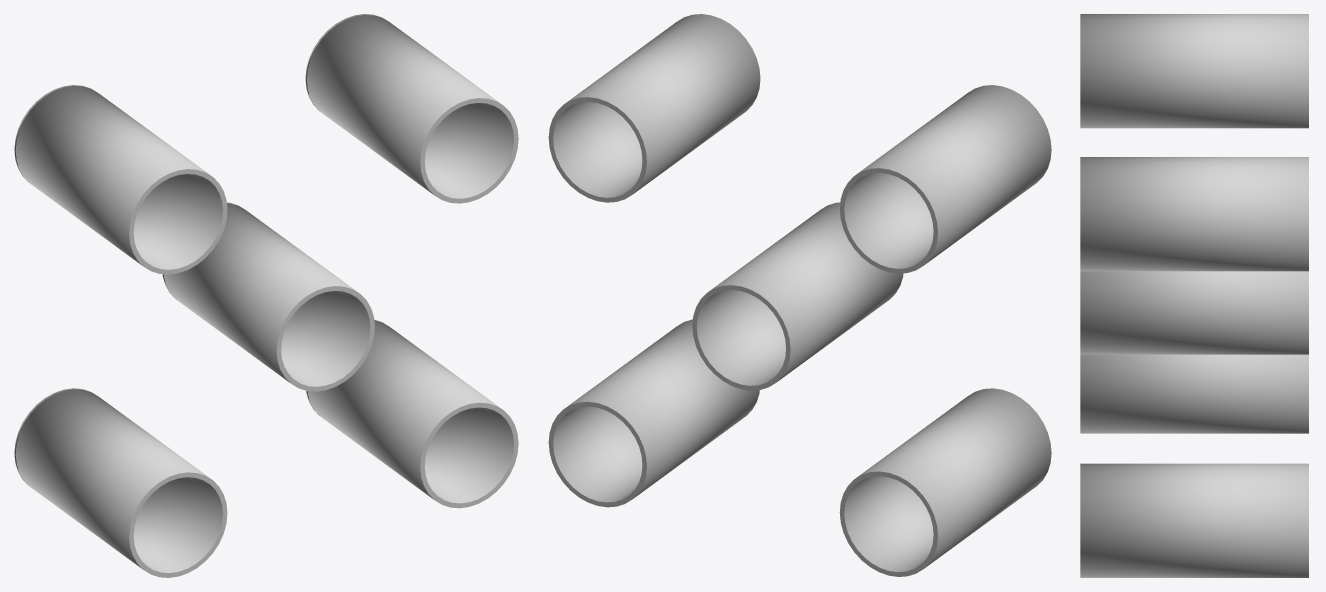
The model's file is start_check.dae.
3 views of the same model, side by side, from view 1: azimuth 30°, elevation 25°; view 2: azimuth 150°, elevation 25°; view 3: azimuth 270°, elevation 25° (orthographic).
Visible parts, largest first — view 1: Cylinder_001, Cylinder_003, Cylinder_002, Cylinder, Cylinder_004; view 2: Cylinder_002, Cylinder_001, Cylinder_003, Cylinder, Cylinder_004; view 3: Cylinder_001, Cylinder_002, Cylinder_004, Cylinder, Cylinder_003.
Part boxes in pixels (x1,y1,x2,y2): Cylinder_001: (306,15,518,203); Cylinder_003: (15,389,227,577); Cylinder_002: (15,86,227,274); Cylinder: (163,203,374,391); Cylinder_004: (307,320,518,508); Cylinder_002: (839,85,1051,273); Cylinder_001: (548,14,760,202); Cylinder_003: (839,388,1051,576); Cylinder: (692,202,903,390); Cylinder_004: (548,319,759,507); Cylinder_001: (1080,157,1308,271); Cylinder_002: (1080,14,1308,128); Cylinder_004: (1080,463,1308,577); Cylinder: (1080,271,1308,354); Cylinder_003: (1080,354,1308,433).
Size of the model in its own units: 0.198 by 0.1011 by 0.198.
Materials: 2 (1 with a texture image).
